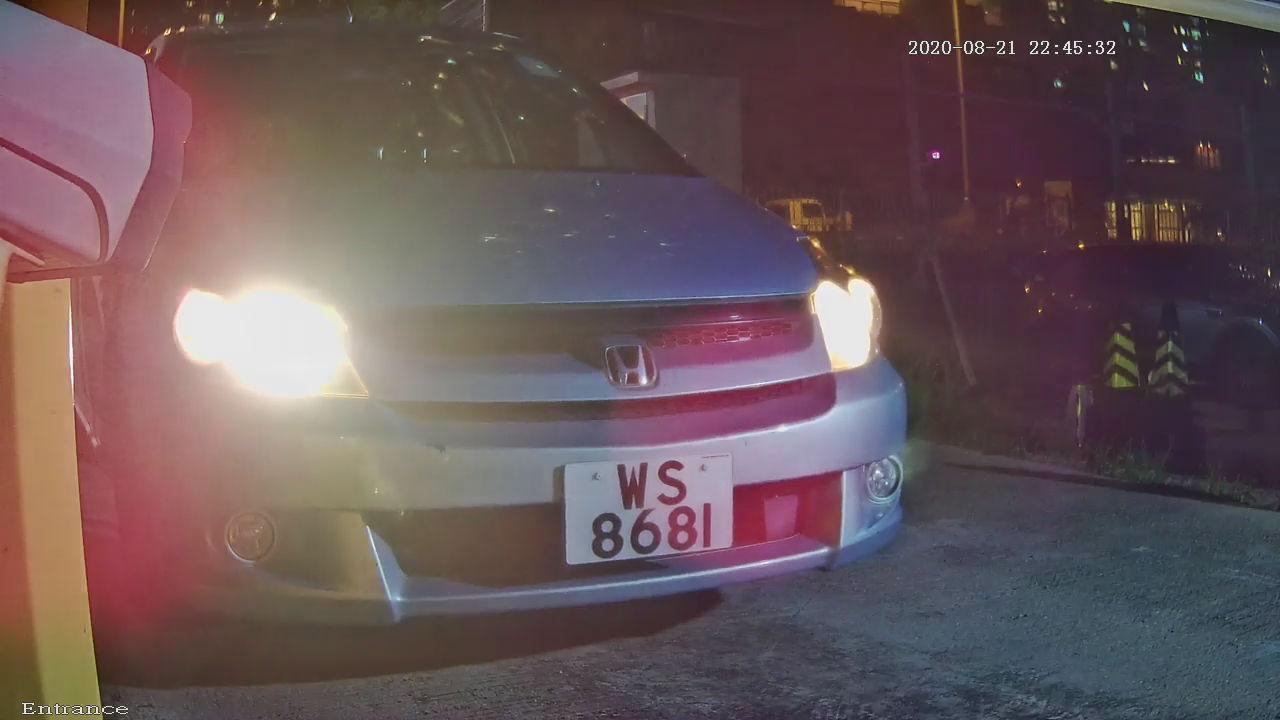License Plate: (538, 438, 755, 582)
